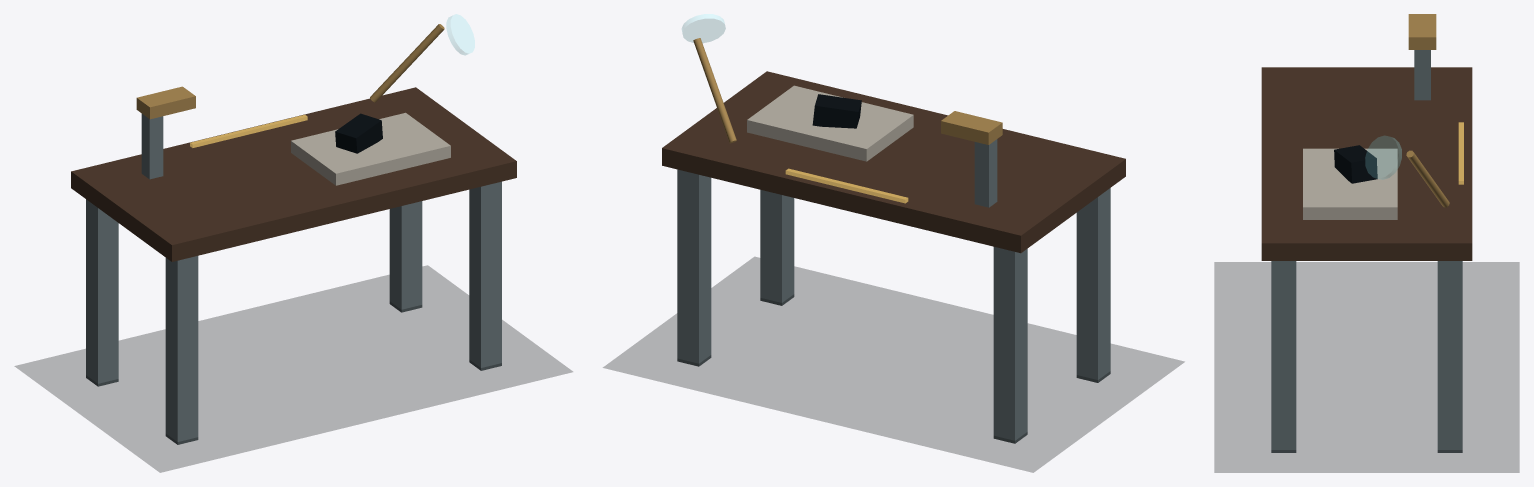
Rendered from hp_room_rm_museum_restoration_bench.glb.
The picture shows the model from 3 angles, left to right: view 1: azimuth 30°, elevation 25°; view 2: azimuth 150°, elevation 25°; view 3: azimuth 270°, elevation 25°; orthographic projection. The views are drawn at different scales.
Visible parts, largest first — view 1: contact_shadow, bench_top, bench_leg_-0.66_0.3, bench_leg_0.66_0.3, specimen_tray, bench_leg_-0.66_-0.3, bench_leg_0.66_-0.3, clamp_post, specimen_fragment, clamp_jaw, magnifier_arm, magnifier_lens (+1 smaller); view 2: contact_shadow, bench_top, bench_leg_-0.66_-0.3, bench_leg_0.66_-0.3, specimen_tray, bench_leg_-0.66_0.3, bench_leg_0.66_0.3, clamp_post, clamp_jaw, specimen_fragment, magnifier_lens, magnifier_arm (+1 smaller); view 3: contact_shadow, bench_top, specimen_tray, bench_leg_0.66_-0.3, bench_leg_0.66_0.3, specimen_fragment, magnifier_lens, clamp_jaw, clamp_post, magnifier_arm, work_lamp_line.
Boxes of the visible parts, left/top/right/bottom form: contact_shadow: left=15, top=265, right=572, bottom=472; bench_top: left=71, top=87, right=516, bottom=261; bench_leg_-0.66_0.3: left=165, top=256, right=198, bottom=444; bench_leg_0.66_0.3: left=469, top=181, right=501, bottom=370; specimen_tray: left=291, top=112, right=450, bottom=185; bench_leg_-0.66_-0.3: left=86, top=199, right=118, bottom=386; bench_leg_0.66_-0.3: left=389, top=201, right=422, bottom=312; clamp_post: left=141, top=114, right=163, bottom=179; specimen_fragment: left=335, top=113, right=382, bottom=153; clamp_jaw: left=136, top=86, right=195, bottom=119; magnifier_arm: left=370, top=24, right=444, bottom=102; magnifier_lens: left=446, top=14, right=474, bottom=55; contact_shadow: left=603, top=257, right=1184, bottom=472; bench_top: left=662, top=71, right=1125, bottom=253; bench_leg_-0.66_-0.3: left=993, top=247, right=1027, bottom=443; bench_leg_0.66_-0.3: left=677, top=169, right=711, bottom=366; specimen_tray: left=747, top=85, right=913, bottom=161; bench_leg_-0.66_0.3: left=1076, top=188, right=1110, bottom=382; bench_leg_0.66_0.3: left=760, top=189, right=794, bottom=305; clamp_post: left=974, top=139, right=997, bottom=207; clamp_jaw: left=941, top=111, right=1002, bottom=144; specimen_fragment: left=812, top=94, right=861, bottom=128; magnifier_lens: left=682, top=14, right=725, bottom=42; magnifier_arm: left=693, top=38, right=736, bottom=143; contact_shadow: left=1214, top=262, right=1519, bottom=472; bench_top: left=1261, top=67, right=1472, bottom=260; specimen_tray: left=1303, top=148, right=1397, bottom=219; bench_leg_0.66_-0.3: left=1437, top=261, right=1462, bottom=452; bench_leg_0.66_0.3: left=1271, top=261, right=1296, bottom=452; specimen_fragment: left=1334, top=145, right=1377, bottom=183; magnifier_lens: left=1365, top=136, right=1401, bottom=179; clamp_jaw: left=1408, top=14, right=1436, bottom=49; clamp_post: left=1414, top=50, right=1430, bottom=100; magnifier_arm: left=1406, top=150, right=1449, bottom=207; work_lamp_line: left=1458, top=122, right=1463, bottom=184.
Size of the model in its own units: 1.8 by 1.27 by 1.1.
